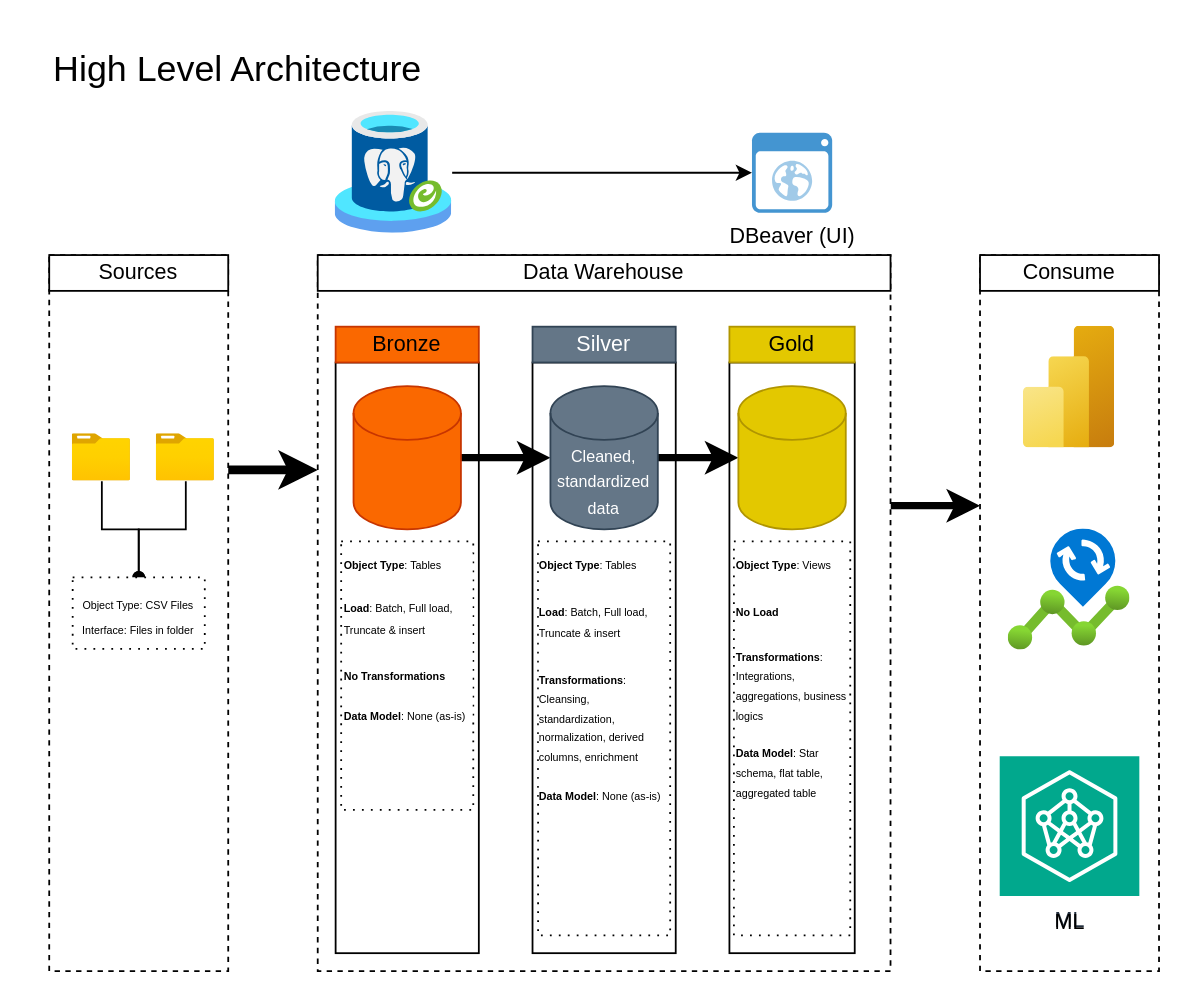
Some shapes in this 1190 by 1002 pixel diagram are drawn without their labels. Each missing label, with the box of its shape:
Ad-hoc SQL queries: (1008, 528, 1129, 650)
BI & Reporting: (1023, 326, 1114, 448)
Business ready data: (737, 384, 846, 529)
CRM: (156, 433, 214, 480)
ERP: (72, 433, 130, 480)
PostgreSQL: (335, 111, 451, 233)
Raw data: (352, 384, 461, 529)
